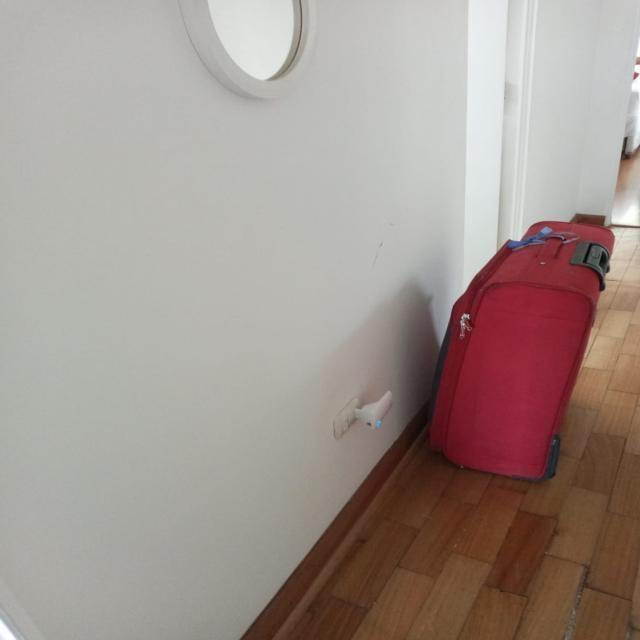Suitcase: (425, 221, 615, 484)
